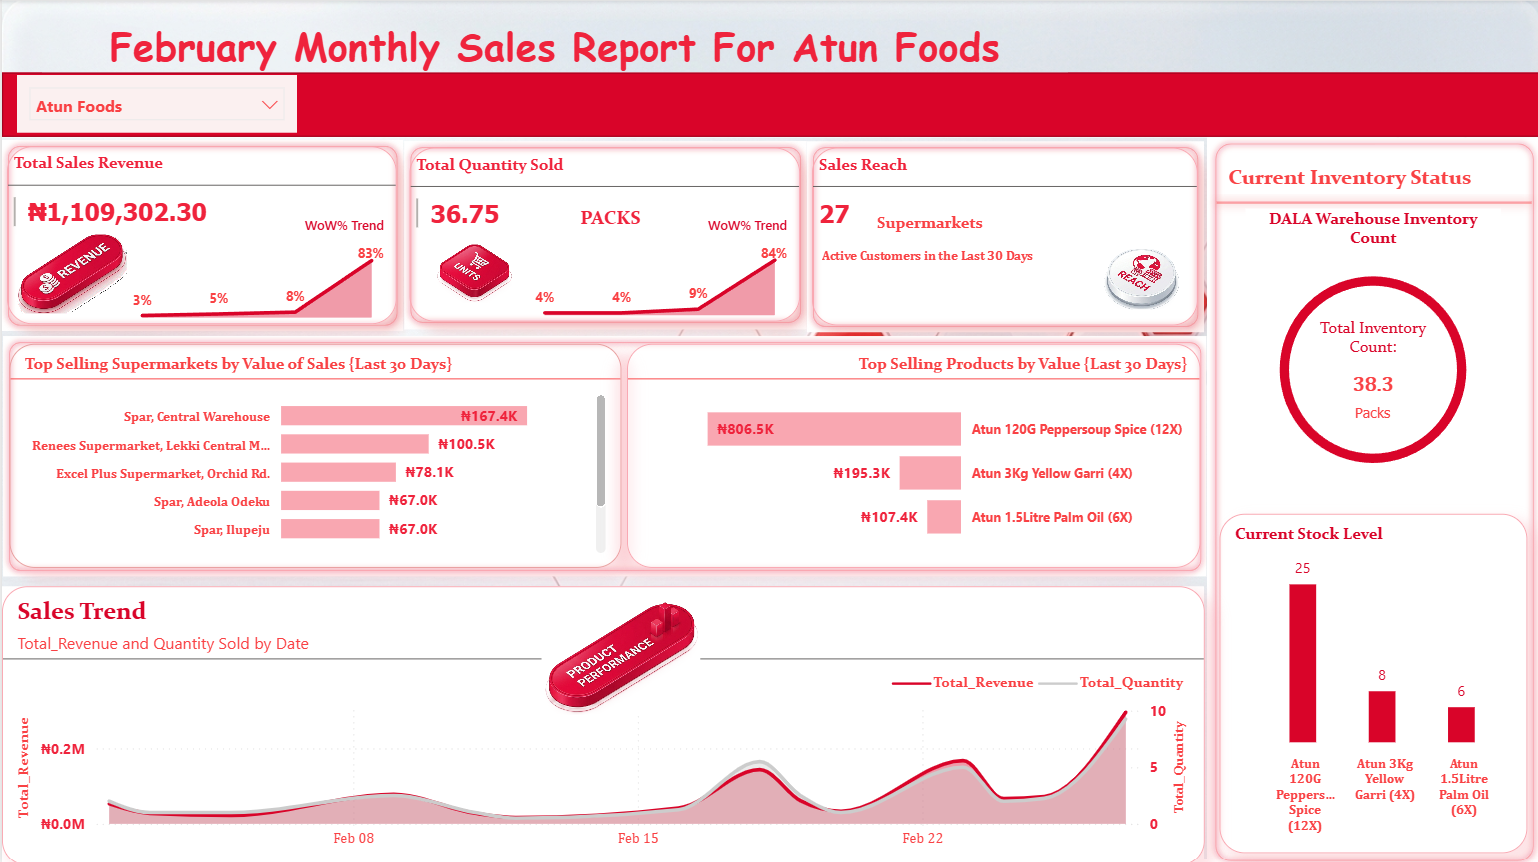

The page's visual inventory and layout, read from the dashboard file:
{"tool":"powerbi","page":{"name":"Dashboard","canvas":[1280,720],"ordinal":0},"visuals":[{"type":"shape","box":[0,51,252.1,665.6],"z":0},{"type":"card","title":"Total Quantity Sold (In Packs)","fields":{"Values":["SalesFact_raw.Total_Quantity"]},"box":[483.7,53.5,196.5,138.4],"z":2000},{"type":"card","title":"Unique SKUs Sold","fields":{"Values":["SalesFact_raw.SKUs Sold"]},"box":[882.6,54.7,196.5,138.4],"z":4000},{"type":"clusteredBarChart","title":"Product Sales by Quantity","fields":{"Category":["dimProduct.SKUs"],"Y":["SalesFact_raw.Total_Quantity"]},"box":[582.6,198.8,319.8,251.2],"z":5000},{"type":"clusteredBarChart","title":"Top Selling Supermarkets By Revenue","fields":{"Category":["dimSupermarket.Particulars"],"Y":["SalesFact_raw.Total_Revenue"]},"box":[257,198.8,325.6,251.2],"z":6000},{"type":"clusteredBarChart","title":"Products Sales by Value","fields":{"Category":["dimProduct.SKUs"],"Y":["SalesFact_raw.Total_Revenue"]},"box":[901.2,200,379.1,250],"z":7000},{"type":"lineChart","title":"Sales_Quantity_Trend","fields":{"Y":["SalesFact_raw.Total_Quantity"],"Category":["dimDate.Date.Variation.Date Hierarchy.Year"]},"box":[330.2,450,453.5,266.3],"z":8000},{"type":"lineChart","title":"Sales_Revenue_Trend","fields":{"Y":["SalesFact_raw.Total_Revenue"],"Category":["dimDate.Date.Variation.Date Hierarchy.Year"]},"box":[783.7,450,496.5,266.3],"z":9000},{"type":"textbox","box":[7,3.5,850,47.7],"z":10000},{"type":"slicer","fields":{"Values":["dimBrand.Brand Partner"]},"box":[7,69.8,234.9,124.4],"z":11000},{"type":"multiRowCard","title":"Number of Stores Sold To","fields":{"Values":["SalesFact_raw.Stores_Sold_To"]},"box":[683.7,58.1,196.5,133.7],"z":12000},{"type":"clusteredColumnChart","title":"Top 5 DALA Brands","fields":{"Y":["SalesFact_raw.Total_Quantity"],"Category":["dimProduct.SKUs"]},"box":[0,450,330.2,269.8],"z":13000}]}

Visuals, with their boxes in screenshot pixels (x1, y1, x2, y2), scaled from the page's 1280x720 canvas onto the 1538x862 screenshot:
shape: x1=0, y1=61, x2=303, y2=858
"Total Quantity Sold (In Packs)" card: x1=581, y1=64, x2=817, y2=230
"Unique SKUs Sold" card: x1=1060, y1=65, x2=1297, y2=231
"Product Sales by Quantity" clusteredBarChart: x1=700, y1=238, x2=1084, y2=539
"Top Selling Supermarkets By Revenue" clusteredBarChart: x1=309, y1=238, x2=700, y2=539
"Products Sales by Value" clusteredBarChart: x1=1083, y1=239, x2=1537, y2=539
"Sales_Quantity_Trend" lineChart: x1=397, y1=539, x2=942, y2=858
"Sales_Revenue_Trend" lineChart: x1=942, y1=539, x2=1537, y2=858
textbox: x1=8, y1=4, x2=1030, y2=61
slicer - dimBrand.Brand Partner: x1=8, y1=84, x2=291, y2=233
"Number of Stores Sold To" multiRowCard: x1=822, y1=70, x2=1058, y2=230
"Top 5 DALA Brands" clusteredColumnChart: x1=0, y1=539, x2=397, y2=861
